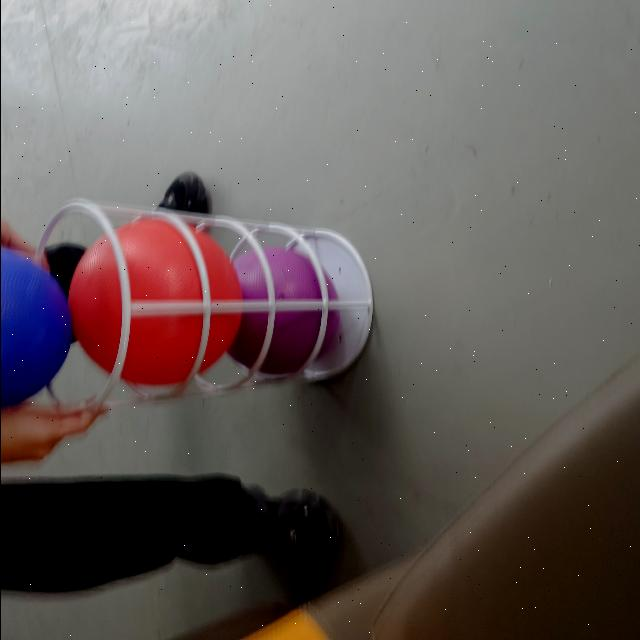B: (0, 247, 72, 415)
P: (230, 239, 338, 375)
R: (64, 220, 246, 390)
S: (52, 201, 368, 413)
